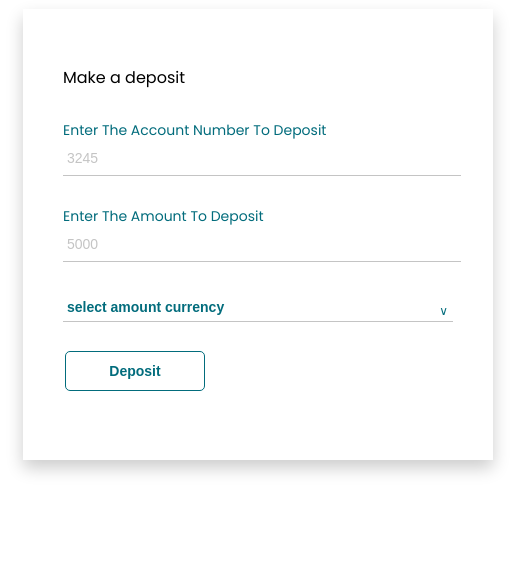
Test: CreateDeposit Test › should validate the input
Step 1. Click the button with test id "createdeposit-deposit" → [135, 371], box [65,351,205,391]
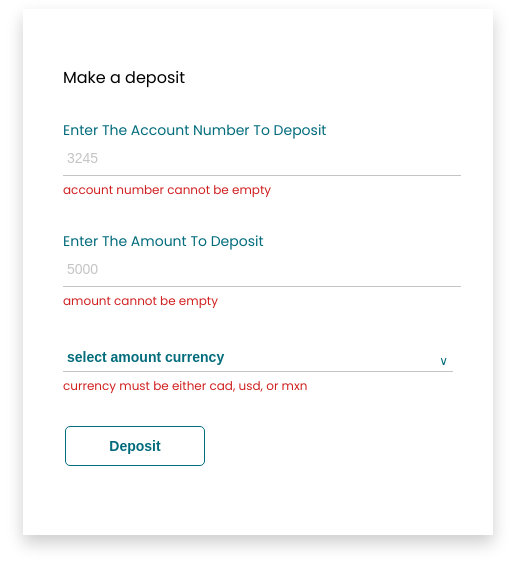
Expected: the text "account number cannot be empty" is shown, [63,181,271,198]
Expected: the text "amount cannot be empty" is shown, [63,292,218,309]
Expected: the text "currency must be either cad, usd, or mxn" is shown, [63,377,307,394]
